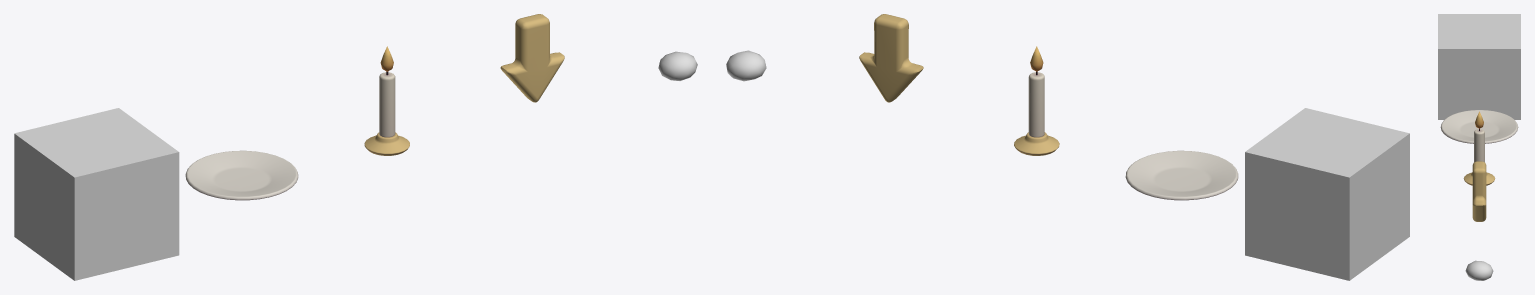
The model's file is props.glb.
3 renders of one model, left to right at view 1: azimuth 30°, elevation 25°; view 2: azimuth 150°, elevation 25°; view 3: azimuth 270°, elevation 25°, orthographic. The views are drawn at different scales.
Parts seen in each view (by area): view 1: hit_bell__geo, dinner_plate__geo, arrow__geo, candle_body__geo, serving__geo; view 2: hit_bell__geo, dinner_plate__geo, arrow__geo, candle_body__geo, serving__geo; view 3: hit_bell__geo, dinner_plate__geo, arrow__geo, candle_body__geo, serving__geo, candle_flame__geo.
Boxes of the visible parts, <box> form: hit_bell__geo: <box>14,108,179,280</box>; dinner_plate__geo: <box>185,150,298,200</box>; arrow__geo: <box>500,14,564,102</box>; candle_body__geo: <box>364,71,409,155</box>; serving__geo: <box>658,51,697,80</box>; hit_bell__geo: <box>1245,108,1409,280</box>; dinner_plate__geo: <box>1125,150,1238,200</box>; arrow__geo: <box>859,14,923,102</box>; candle_body__geo: <box>1014,71,1059,155</box>; serving__geo: <box>726,50,766,81</box>; hit_bell__geo: <box>1438,14,1520,119</box>; dinner_plate__geo: <box>1440,110,1518,143</box>; arrow__geo: <box>1472,161,1486,221</box>; candle_body__geo: <box>1463,128,1495,185</box>; serving__geo: <box>1465,260,1493,280</box>; candle_flame__geo: <box>1475,111,1483,128</box>.
Bounding box in the file's own units: 2.24 × 0.425 × 0.36.
